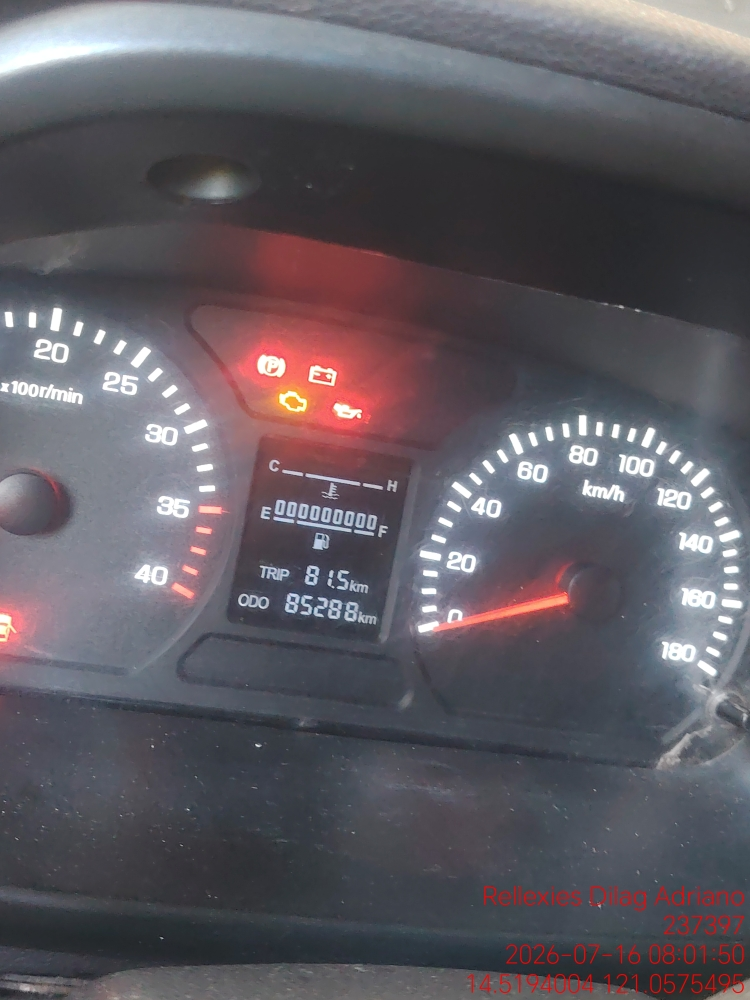grid_pose: (162, 80, 373, 535)
